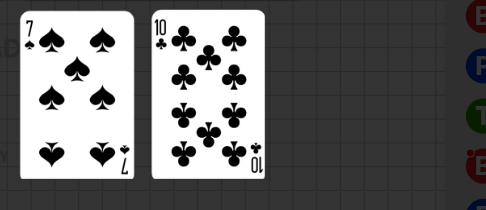10C: (248, 140, 263, 175)
7S: (23, 18, 36, 52)
